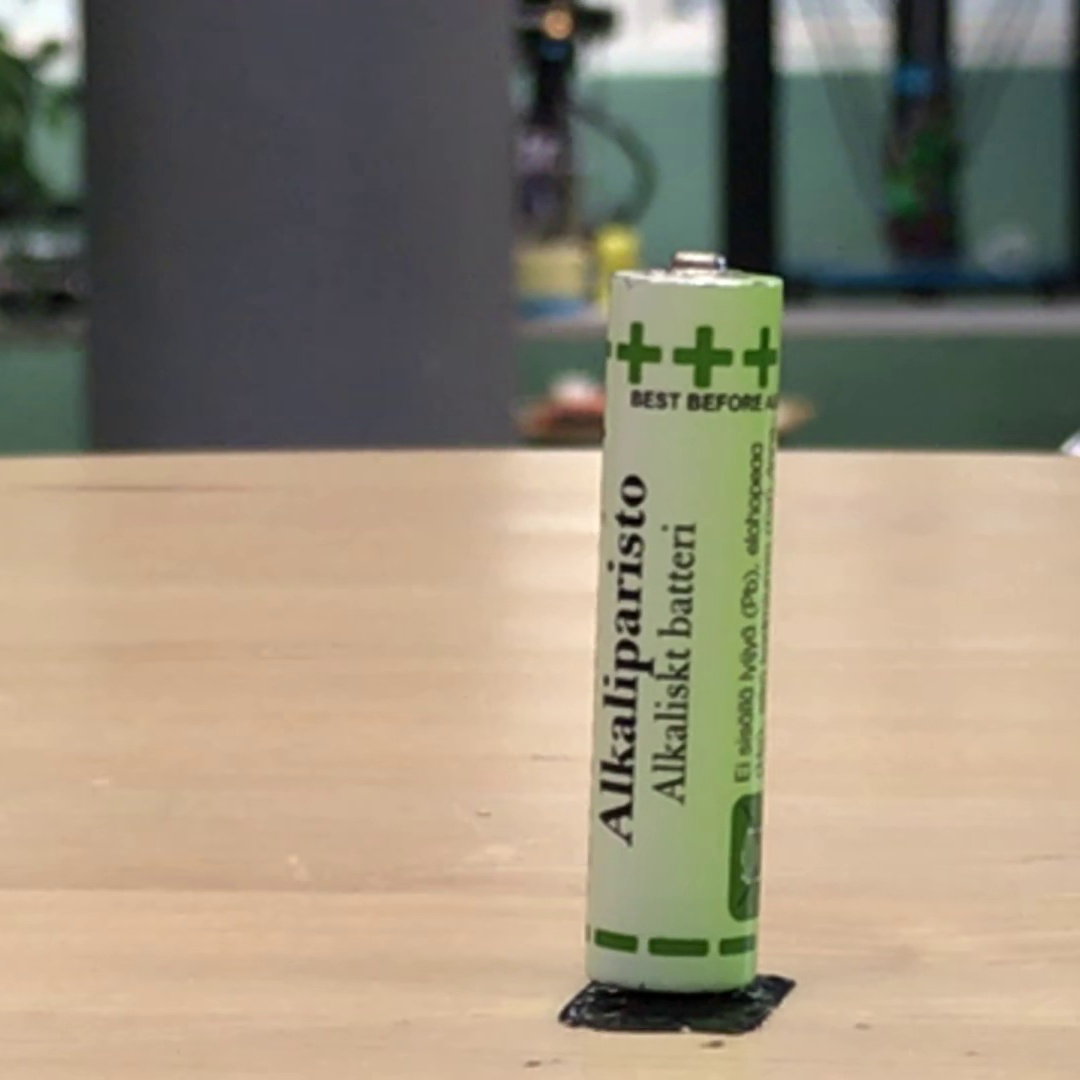keyword: (589, 769, 644, 856)
